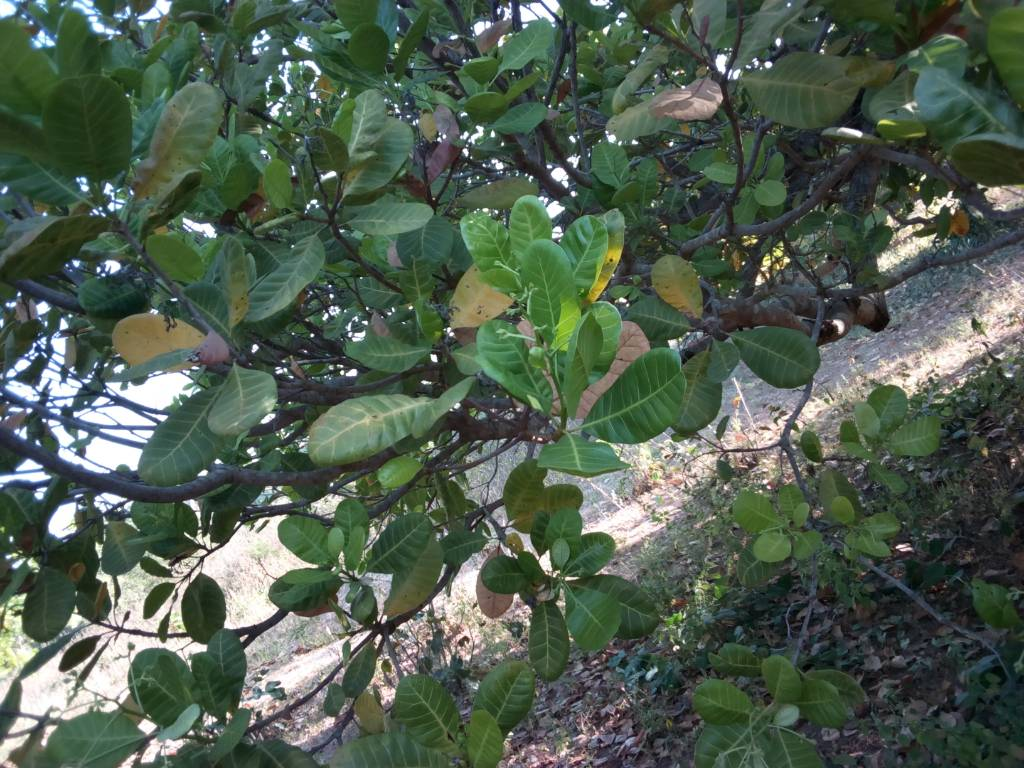Helopeltis anacardii: (1, 206, 109, 283)
